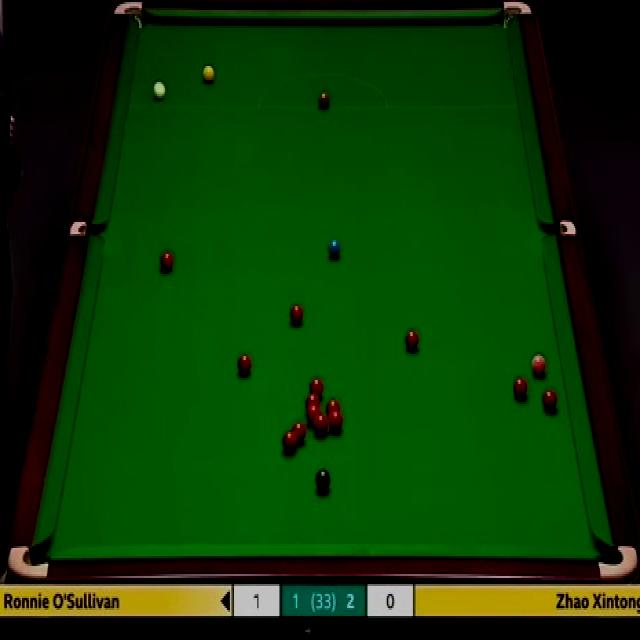black-ball: (315, 466, 331, 496)
blue-ball: (327, 237, 342, 258)
brown-ball: (317, 90, 330, 110)
pink-ball: (531, 352, 547, 378)
red-ball: (236, 352, 253, 379), (281, 431, 298, 455), (292, 423, 308, 448), (514, 376, 530, 401), (542, 389, 559, 412), (328, 410, 343, 435), (405, 328, 420, 352), (289, 304, 304, 326), (160, 251, 174, 274), (314, 413, 328, 435), (308, 377, 324, 394), (306, 406, 320, 424), (306, 392, 320, 408), (326, 401, 340, 414)
white-ball: (152, 78, 166, 104)
yellow-ball: (203, 65, 216, 86)
